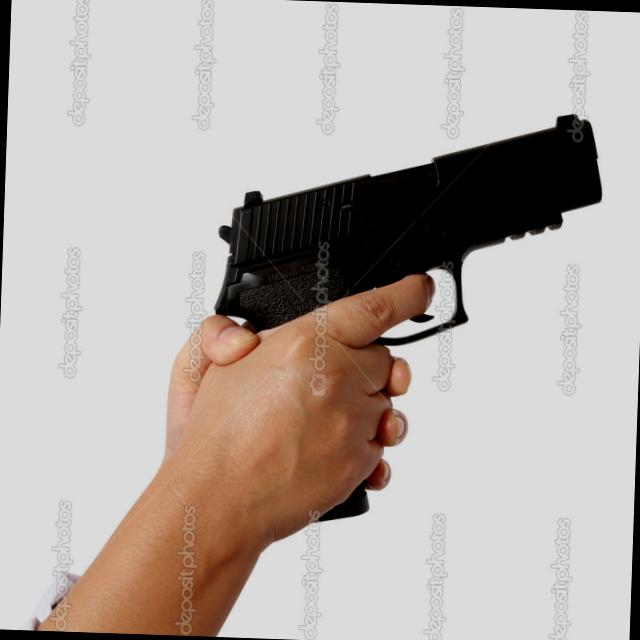handgun: (196, 82, 620, 580)
